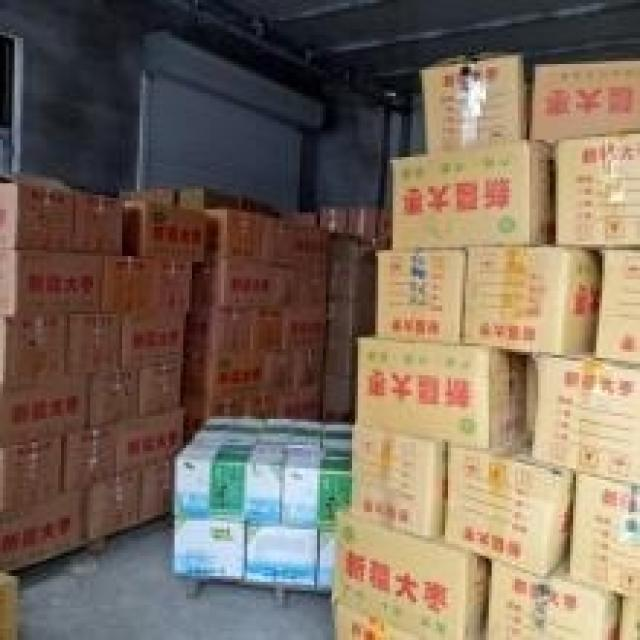box: (332, 509, 489, 640), (355, 337, 527, 451), (442, 433, 573, 582), (393, 137, 556, 247), (463, 241, 602, 355), (529, 355, 640, 486), (489, 553, 623, 640), (352, 425, 451, 538), (422, 52, 529, 151), (553, 131, 640, 247), (177, 442, 288, 524), (532, 61, 640, 143), (570, 474, 640, 596), (375, 247, 465, 340), (0, 372, 90, 445), (0, 250, 102, 314), (0, 489, 84, 564), (0, 172, 76, 250), (279, 448, 352, 527), (593, 247, 640, 367), (122, 201, 209, 262), (172, 515, 247, 579), (0, 314, 67, 384), (0, 436, 64, 509), (247, 524, 320, 585), (192, 259, 282, 308), (116, 410, 183, 474), (207, 207, 276, 262), (84, 474, 140, 538), (189, 349, 265, 396), (335, 602, 425, 640), (119, 314, 183, 367), (67, 311, 119, 375), (64, 425, 116, 489), (87, 367, 137, 425), (73, 195, 122, 253), (183, 396, 262, 431), (189, 308, 250, 352), (105, 256, 151, 311), (140, 364, 183, 419), (279, 262, 329, 305), (140, 463, 175, 521), (282, 305, 329, 346), (279, 224, 329, 262), (329, 262, 378, 300), (329, 300, 375, 340), (262, 416, 323, 445), (195, 416, 262, 442), (154, 262, 189, 311), (294, 343, 326, 390), (262, 349, 291, 396), (314, 532, 337, 591), (323, 375, 355, 416), (253, 308, 282, 349), (326, 340, 358, 375), (343, 207, 375, 239), (177, 189, 221, 209), (620, 596, 640, 640), (297, 387, 323, 419), (122, 189, 175, 204), (323, 422, 352, 448), (265, 393, 297, 416), (320, 207, 346, 233)
